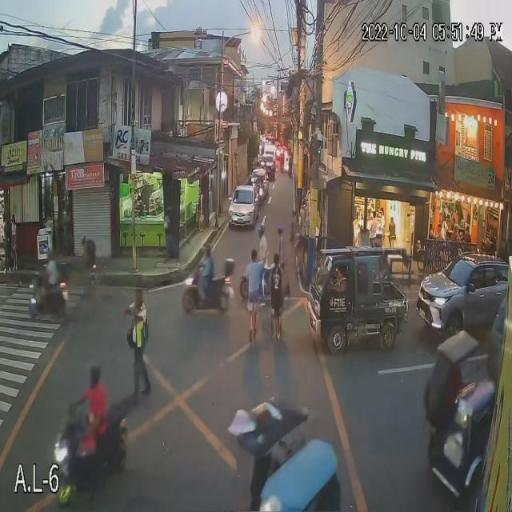helmet: (83, 364, 104, 390), (202, 244, 214, 258), (44, 250, 56, 261), (256, 224, 266, 236)
motorcycle: (48, 417, 131, 502), (184, 258, 235, 312), (30, 264, 68, 316)
rider: (72, 388, 107, 477), (194, 258, 214, 309), (38, 262, 58, 309), (254, 236, 268, 268)
